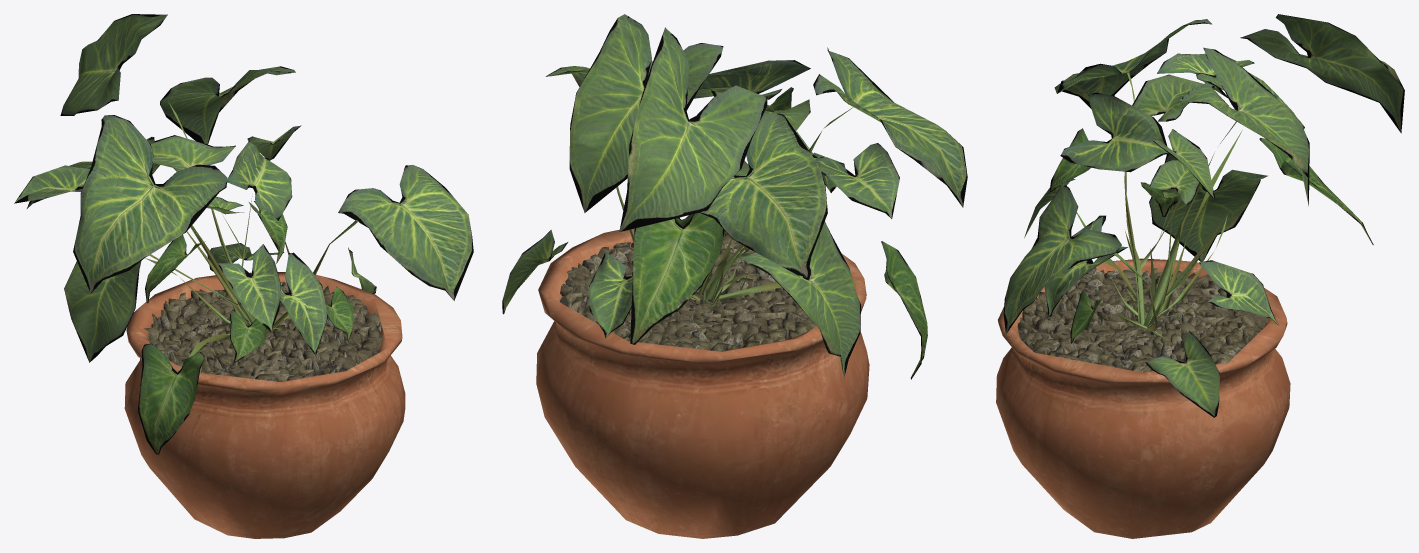
Rendered from potted_plant_02.glb.
3 renders of one model, left to right at view 1: azimuth 30°, elevation 25°; view 2: azimuth 150°, elevation 25°; view 3: azimuth 270°, elevation 25°, orthographic. The views are drawn at different scales.
Parts seen in each view (by area): view 1: potted_plant_02_leaves, potted_plant_02_pot; view 2: potted_plant_02_leaves, potted_plant_02_pot; view 3: potted_plant_02_pot, potted_plant_02_leaves.
Part boxes in pixels (x1,y1,x2,y2): potted_plant_02_leaves: [14, 14, 473, 454]; potted_plant_02_pot: [124, 272, 405, 538]; potted_plant_02_leaves: [502, 14, 967, 379]; potted_plant_02_pot: [536, 219, 869, 538]; potted_plant_02_pot: [996, 258, 1290, 538]; potted_plant_02_leaves: [1003, 14, 1404, 417].
Size of the model in its own units: 0.7012 by 0.8395 by 0.6537.
Materials: 2 (2 with a texture image).
